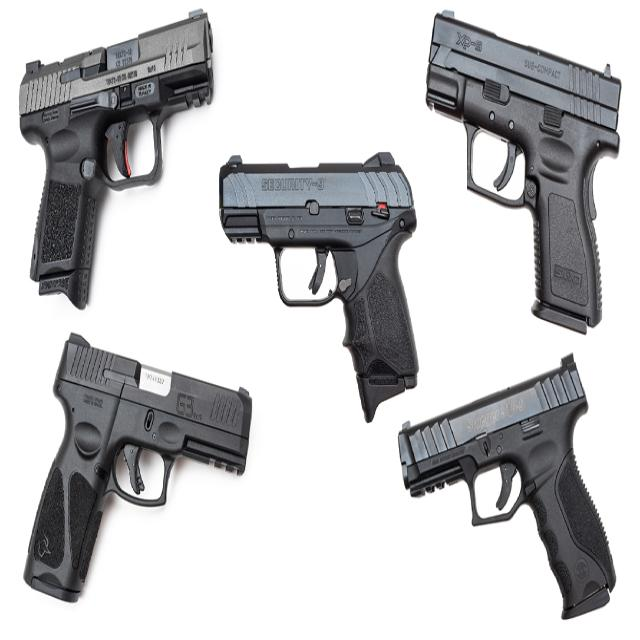HandGun: (425, 13, 622, 338), (24, 334, 253, 606), (19, 10, 215, 313), (397, 356, 618, 622), (219, 152, 420, 423)
